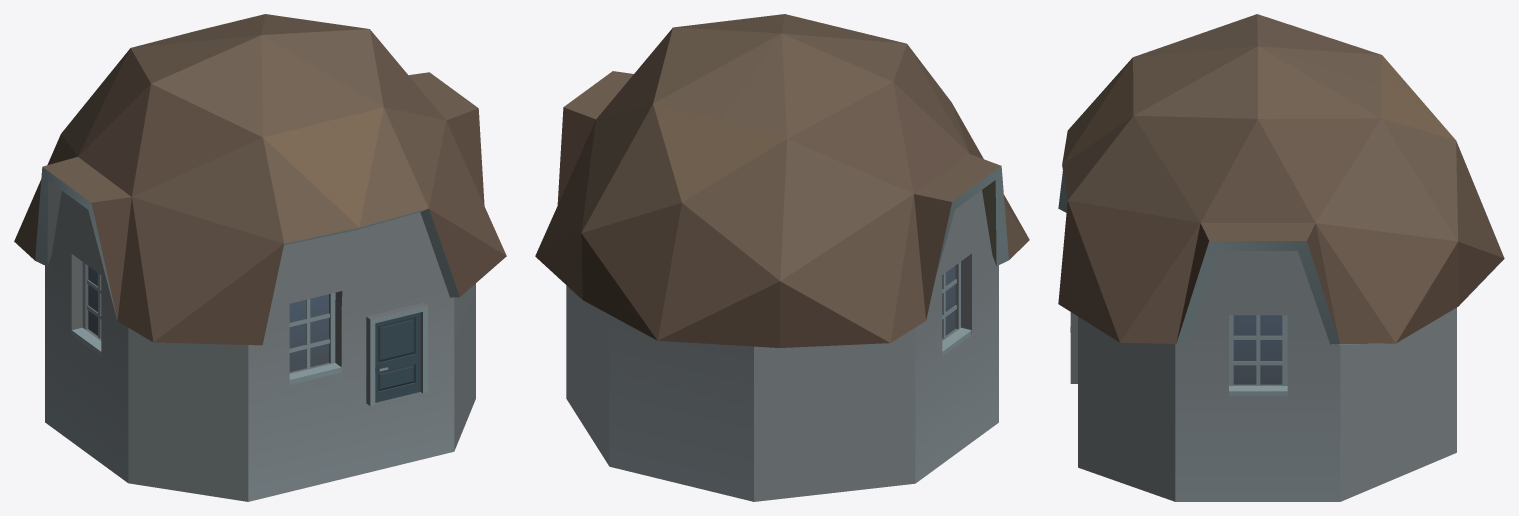
The model's file is buildings-residential-geodesichome_v2.glb.
The picture shows the model from 3 angles, left to right: view 1: azimuth 30°, elevation 25°; view 2: azimuth 150°, elevation 25°; view 3: azimuth 270°, elevation 25°; orthographic projection.
Parts seen in each view (by area): view 1: GeodesicHome_v2_base, GeodesicHome_v2_windowRefl; view 2: GeodesicHome_v2_base, GeodesicHome_v2_windowRefl; view 3: GeodesicHome_v2_base, GeodesicHome_v2_windowRefl.
Part boxes in pixels (x1,y1,x2,y2): GeodesicHome_v2_base: (14,14,506,501); GeodesicHome_v2_windowRefl: (88,266,328,371); GeodesicHome_v2_base: (535,14,1029,501); GeodesicHome_v2_windowRefl: (945,265,955,335); GeodesicHome_v2_base: (1058,14,1504,501); GeodesicHome_v2_windowRefl: (1233,315,1282,384).
Bounding box in the file's own units: 11.34 × 10.5 × 11.41.
